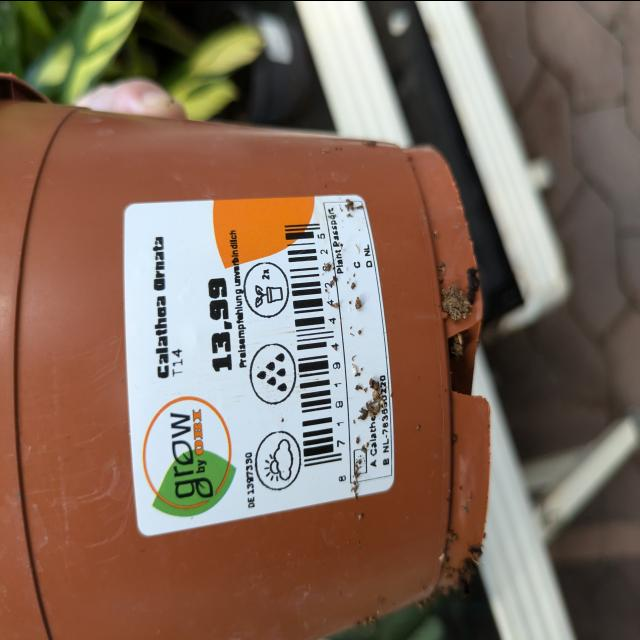dungen: (240, 249, 288, 319)
halb sonnig schattig: (253, 425, 300, 487)
viel giesen: (245, 342, 304, 406)
